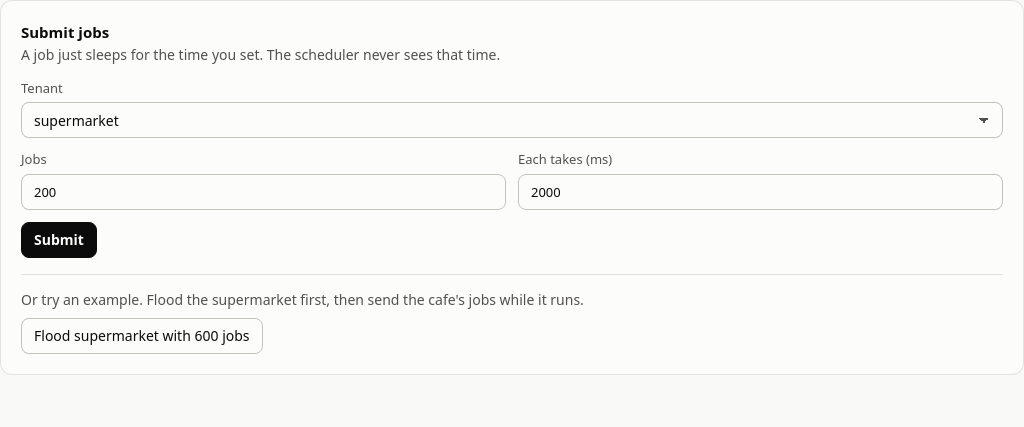
Scenario: the form that submits jobs › hands the first job of the batch to the page
This screenshot has width=1024, height=427.
Step 1. Click the dropdown named "Tenant" → click(512, 120), box [21,102,1003,138]
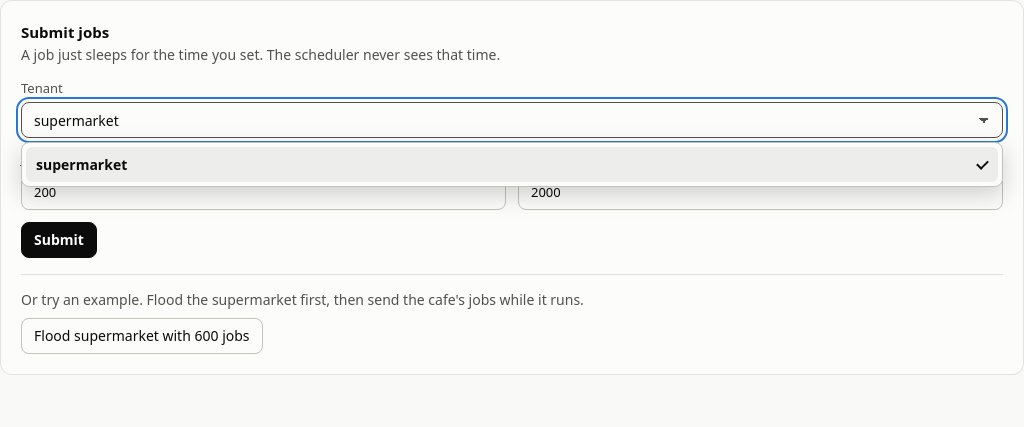
Step 2. Click the option "supermarket" → click(82, 164), box [26,147,998,182]
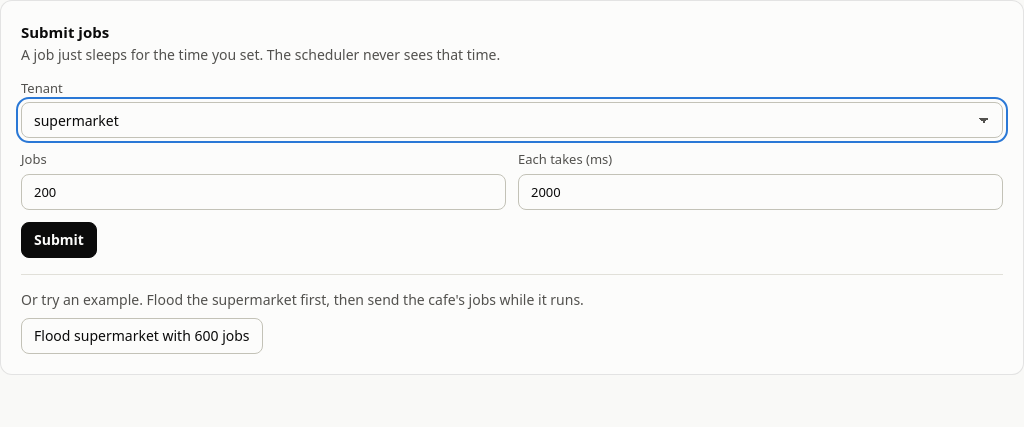
Step 3. Replace the text in the number field labelled "Jobs" with "3" → (264, 192), box [21,174,506,210]
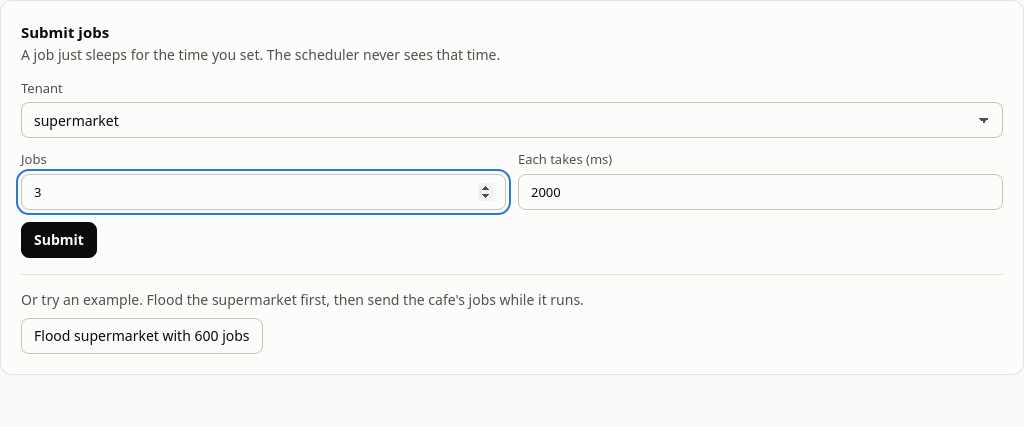
Step 4. Replace the text in the number field labelled "Each takes (ms)" with "100" → (760, 192), box [518,174,1003,210]
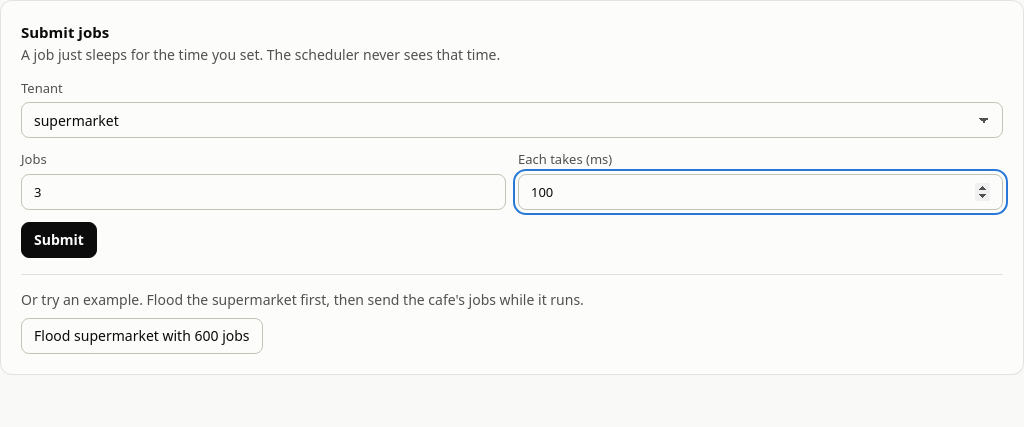
Step 5. Click the button "Submit" → click(59, 240), box [21,222,97,258]
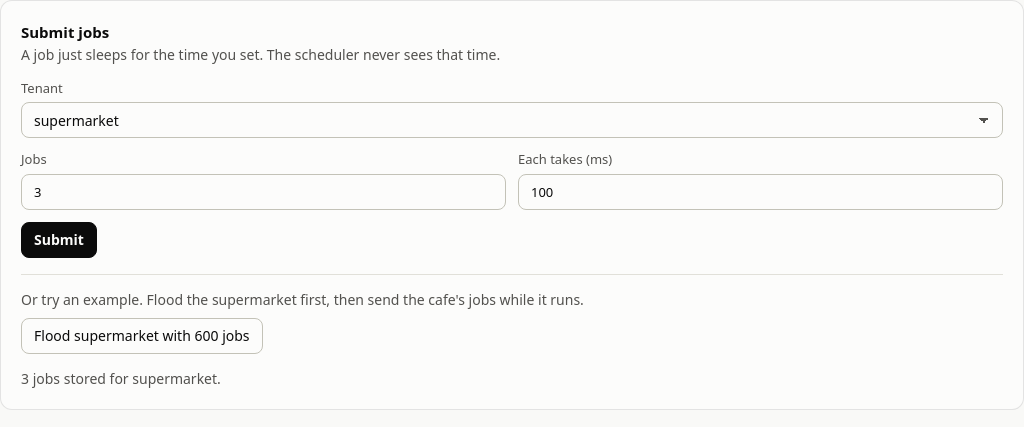
Now the text "3 jobs stored for supermarket." is shown, box [21,368,221,388]
